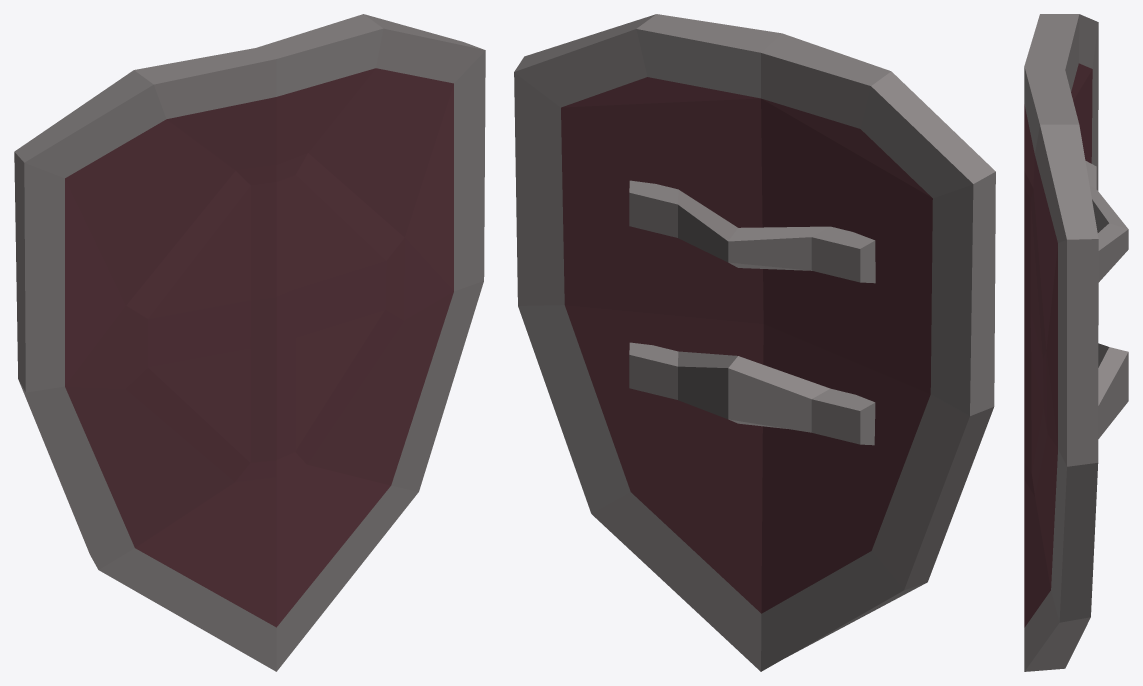
Rendered from shield-knight-cross.fbx.
The picture shows the model from 3 angles, left to right: view 1: azimuth 30°, elevation 25°; view 2: azimuth 150°, elevation 25°; view 3: azimuth 270°, elevation 25°; orthographic projection. The views are drawn at different scales.
Visible parts, largest first — view 1: shield-knight-cross; view 2: shield-knight-cross; view 3: shield-knight-cross.
Part boxes in pixels (left/top/right/bottom): shield-knight-cross: left=14, top=14, right=485, bottom=671; shield-knight-cross: left=514, top=14, right=995, bottom=671; shield-knight-cross: left=1024, top=14, right=1128, bottom=671.
Bounding box in the file's own units: 0.595 × 0.7554 × 0.1177.
